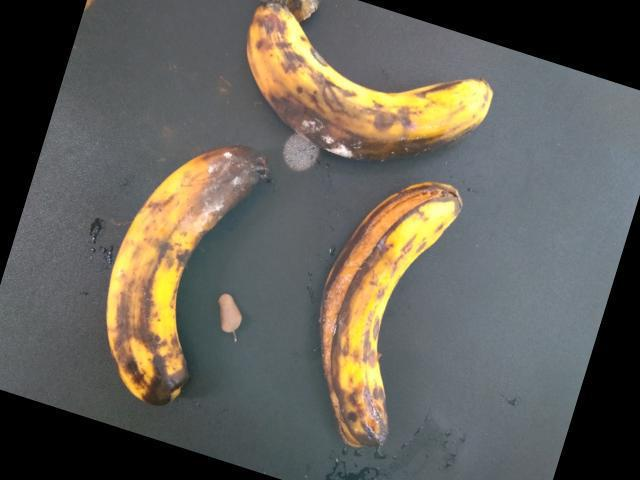rotten: (309, 177, 496, 476), (86, 148, 267, 391), (229, 0, 498, 158)
